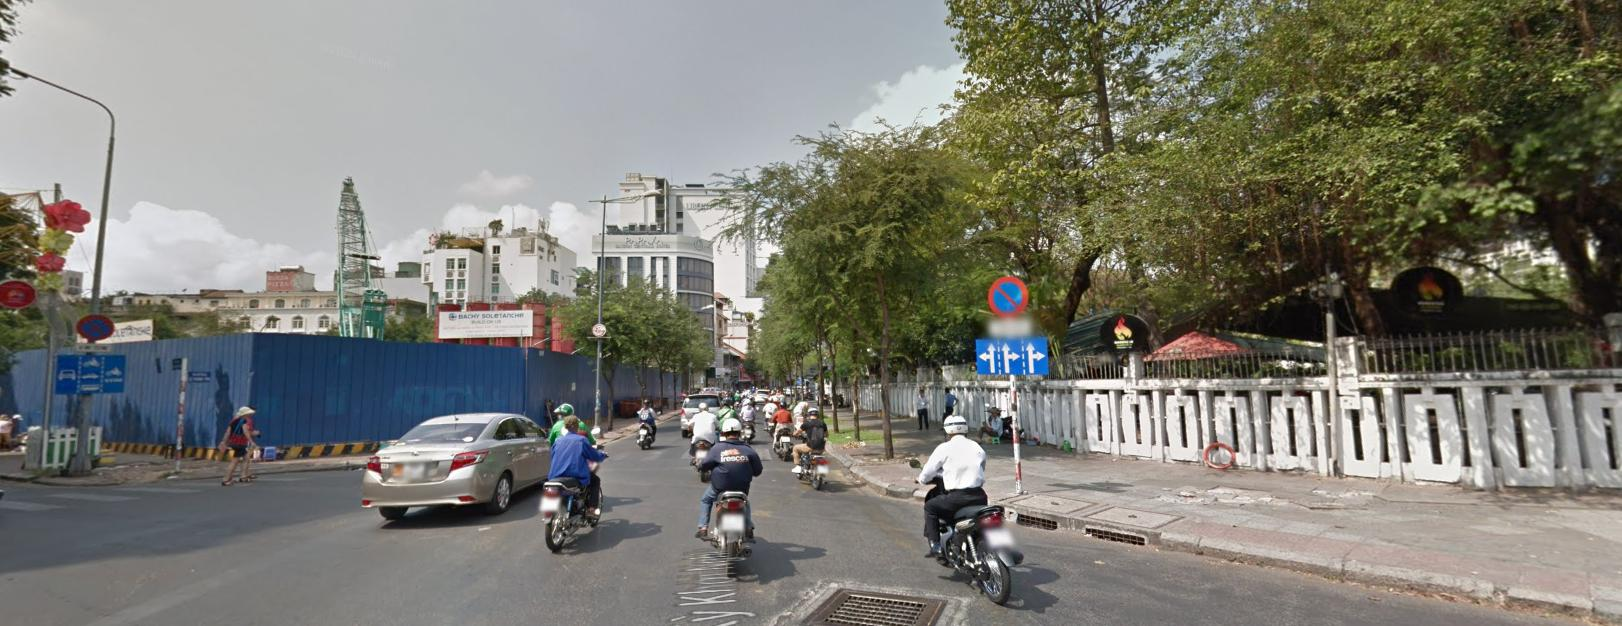Cam dung va do: (985, 276, 1031, 317), (74, 314, 114, 338)
